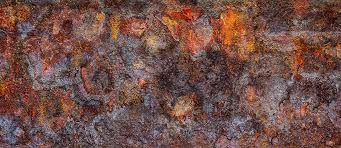rust: (1, 3, 339, 146)
